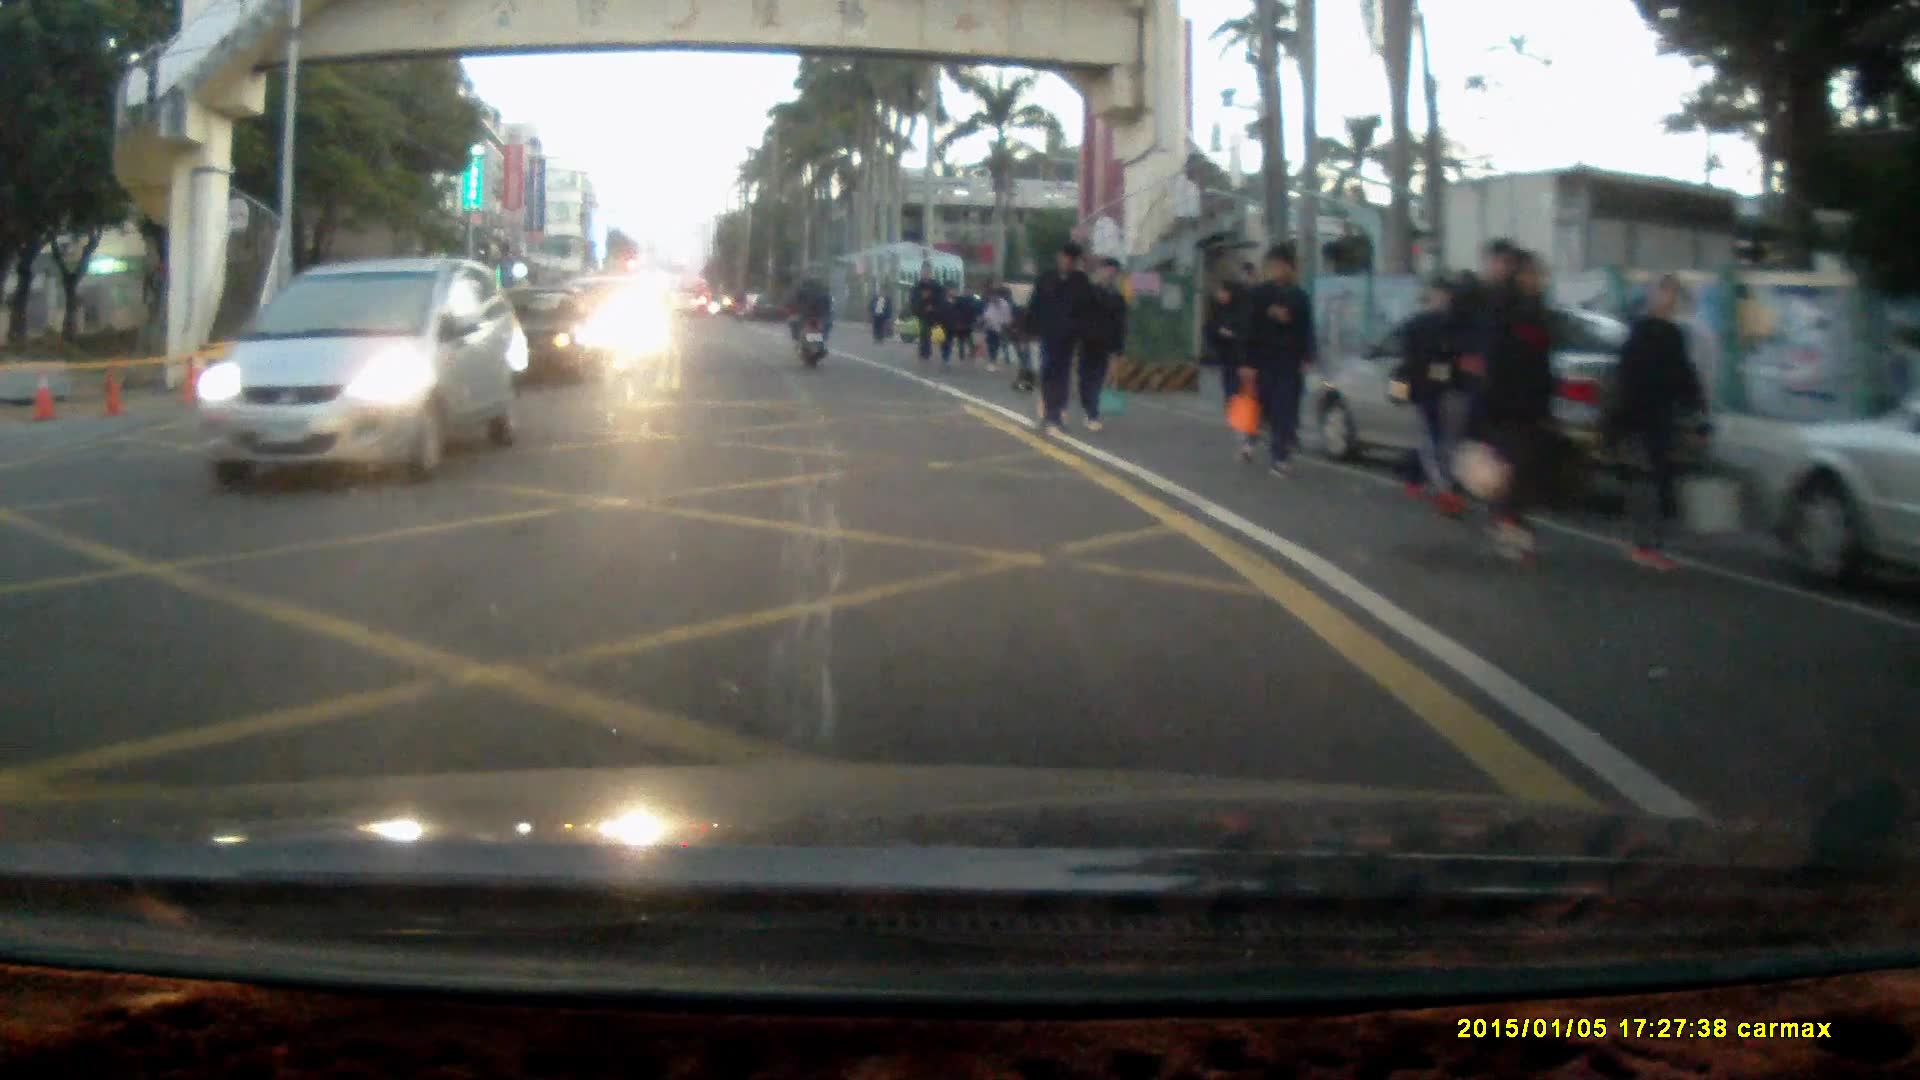pedestrian: (1606, 271, 1713, 574), (1481, 250, 1564, 574), (1443, 236, 1528, 538), (1239, 245, 1314, 482), (1402, 271, 1478, 500), (1029, 248, 1098, 440), (1081, 263, 1139, 442), (1207, 281, 1254, 440), (980, 275, 1021, 376), (908, 262, 942, 366), (934, 277, 966, 363), (868, 282, 894, 348)
rider: (789, 271, 833, 369)
vehicle: (1318, 303, 1723, 508), (184, 258, 534, 495), (1760, 389, 1920, 625), (481, 289, 604, 391)
